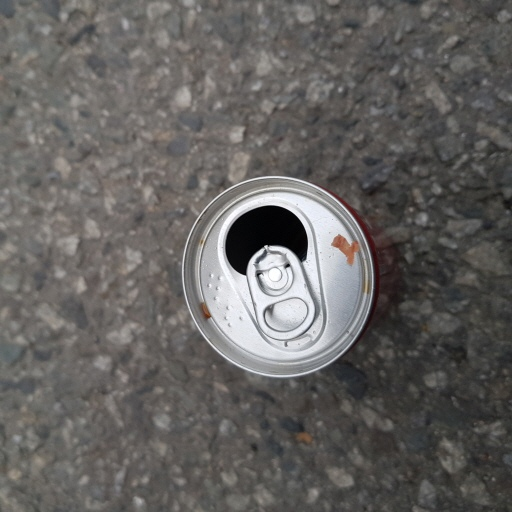Metal_0: (181, 172, 382, 387)
